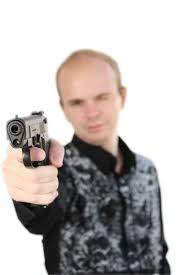gun: (3, 110, 61, 206)
